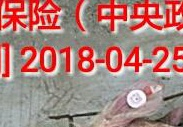text: (118, 83, 158, 111)
